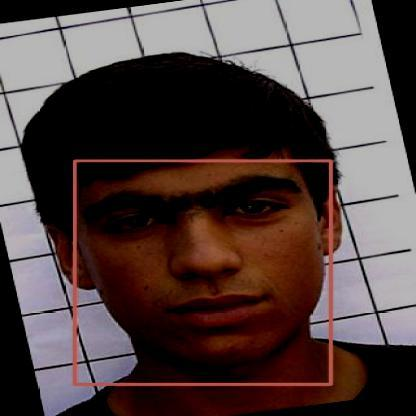without_mask: (74, 160, 330, 384)
